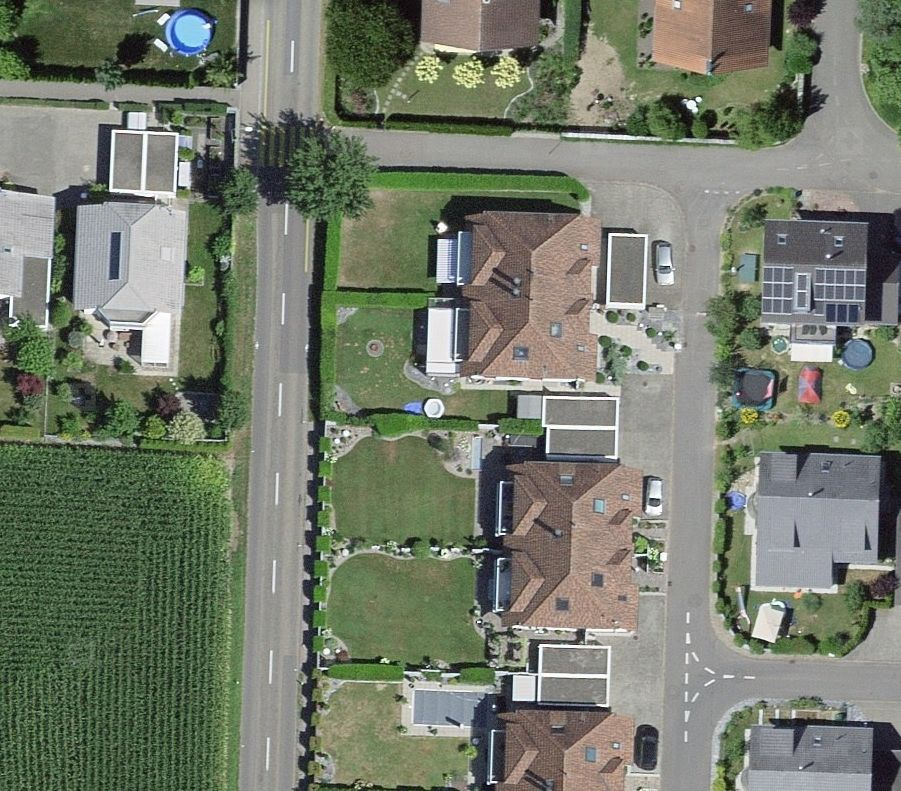solar: (757, 263, 868, 322)
